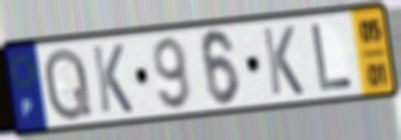6: (200, 27, 242, 109)
9: (150, 34, 193, 112)
K: (260, 23, 307, 98), (89, 41, 136, 116)
L: (309, 21, 356, 94)
Q: (42, 44, 96, 124)
